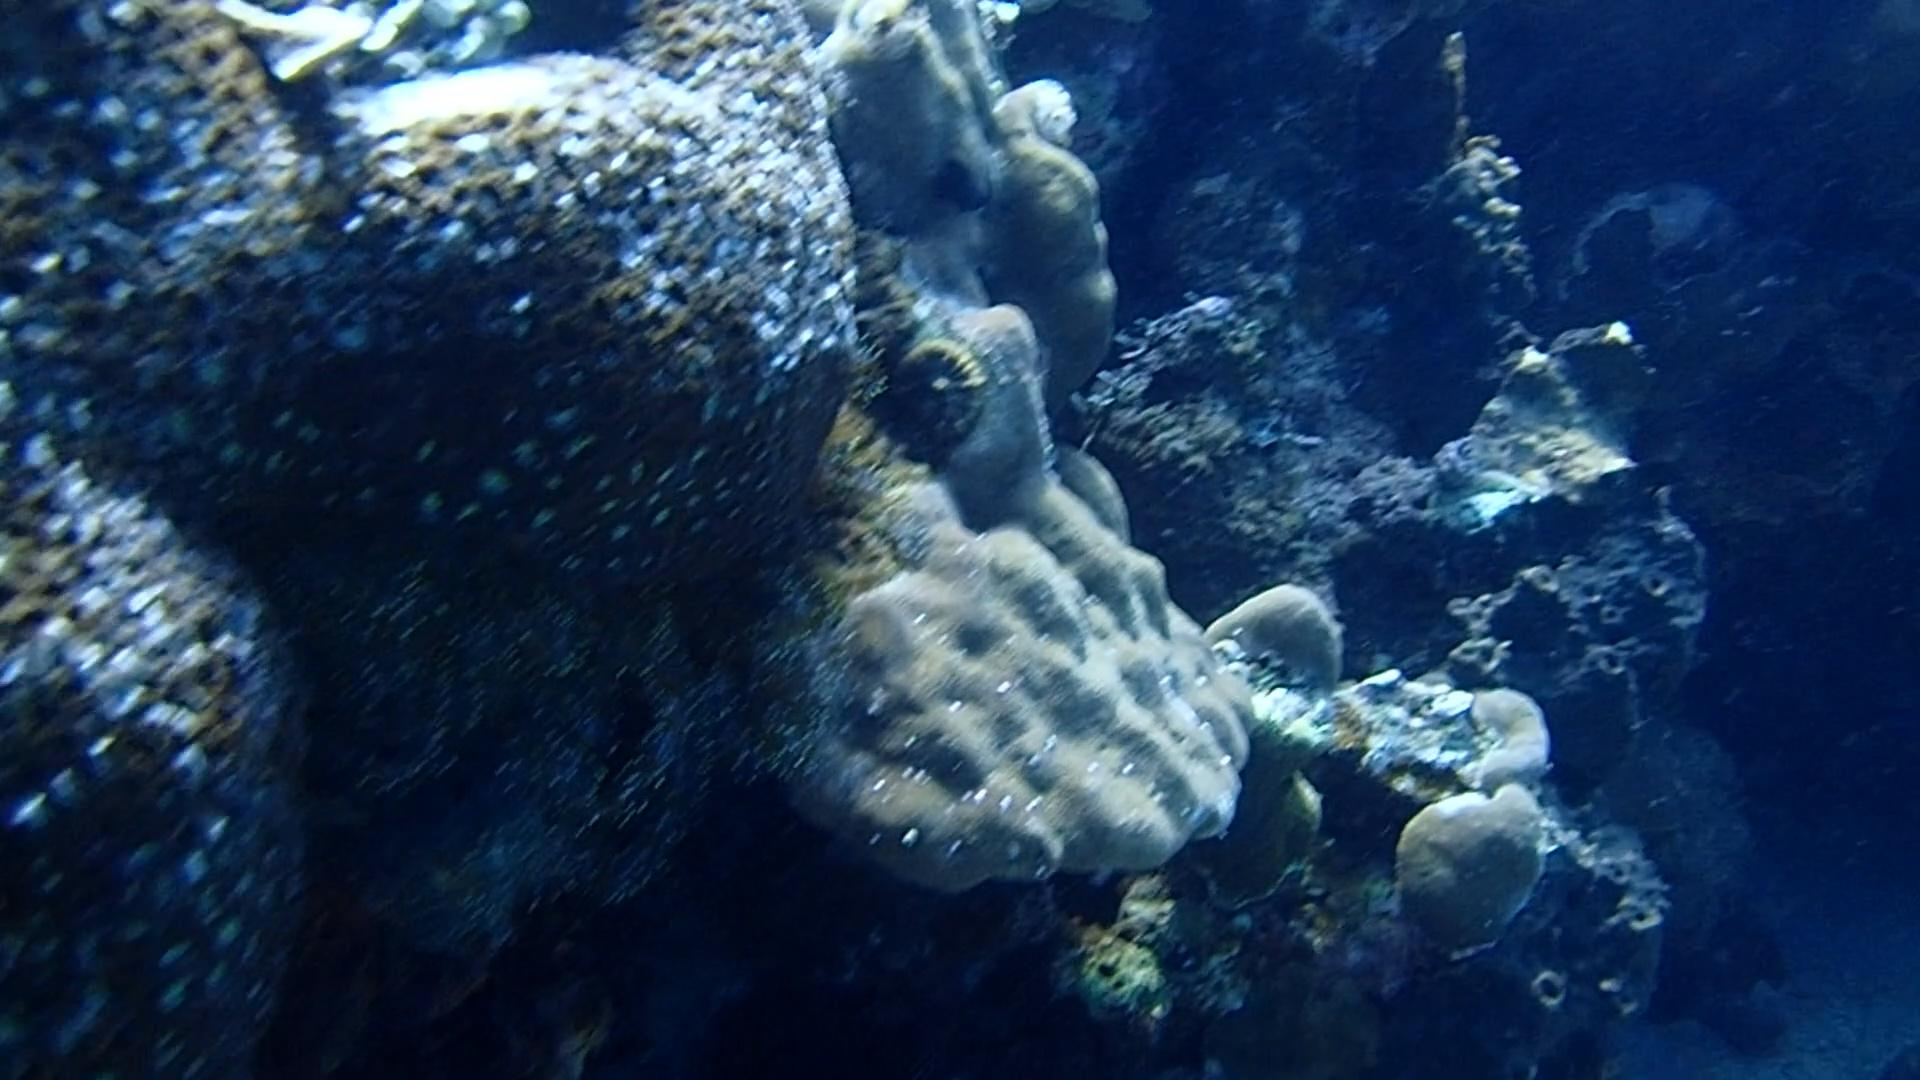Dark Fish: (1114, 336, 1234, 418), (920, 137, 1013, 228)
